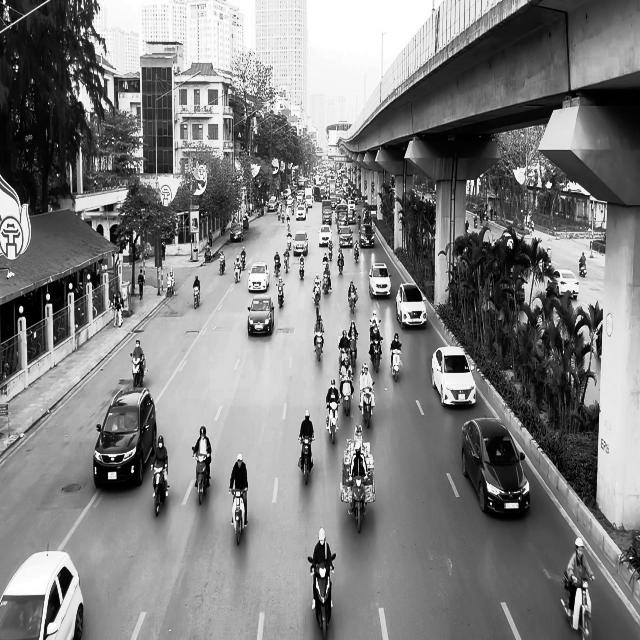car: (0, 546, 84, 640), (461, 416, 530, 517), (93, 386, 156, 488), (431, 345, 476, 408), (396, 283, 426, 328), (546, 268, 580, 300), (247, 296, 274, 336), (368, 263, 392, 298), (248, 262, 269, 292), (293, 230, 308, 256), (318, 225, 332, 246), (230, 222, 243, 242)
motorbike: (560, 570, 595, 639), (308, 553, 335, 639), (348, 474, 369, 534), (228, 487, 248, 545), (192, 449, 210, 505), (151, 464, 169, 516), (298, 436, 314, 485), (325, 400, 340, 444), (360, 383, 374, 428), (339, 375, 354, 417), (130, 353, 146, 388), (370, 338, 382, 372), (390, 346, 401, 381), (314, 329, 324, 361), (277, 284, 284, 307), (298, 256, 305, 279), (193, 287, 200, 309), (578, 259, 586, 277), (219, 254, 225, 275)
